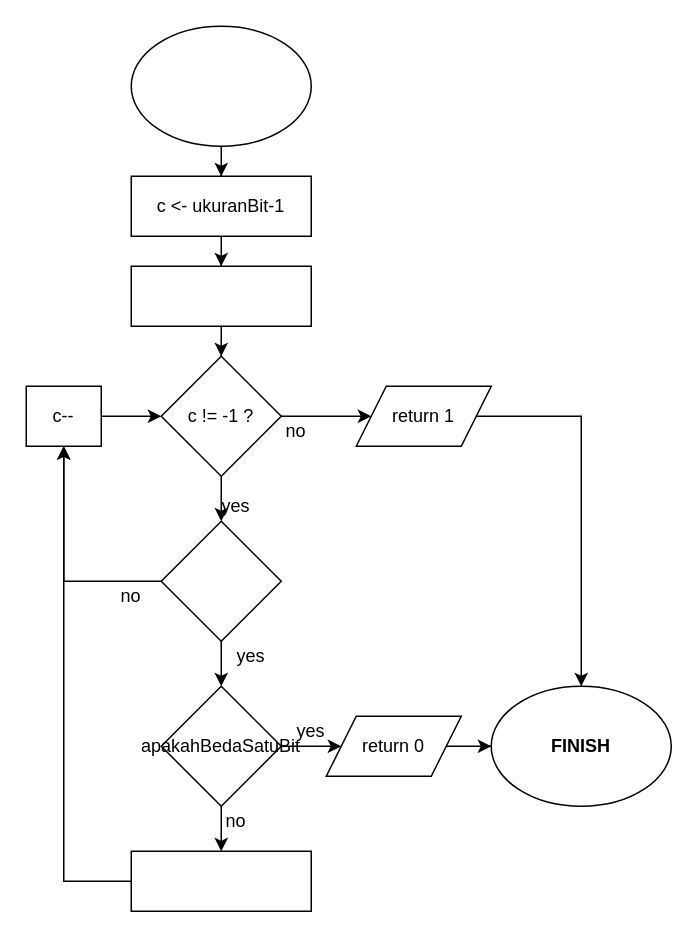
The diagram is 698 pixels wide and 938 high, and some of its shapes have lost their labels. Here are the shapes that lost their labels. From the top down, the centre of each, then its label:
the point at 220,85: START
the point at 220,295: apakahBedaSatuBit <- 0
the point at 220,580: a->binary[c] != b->binary[c]
the point at 220,880: apakahBedaSatuBit <- 1
